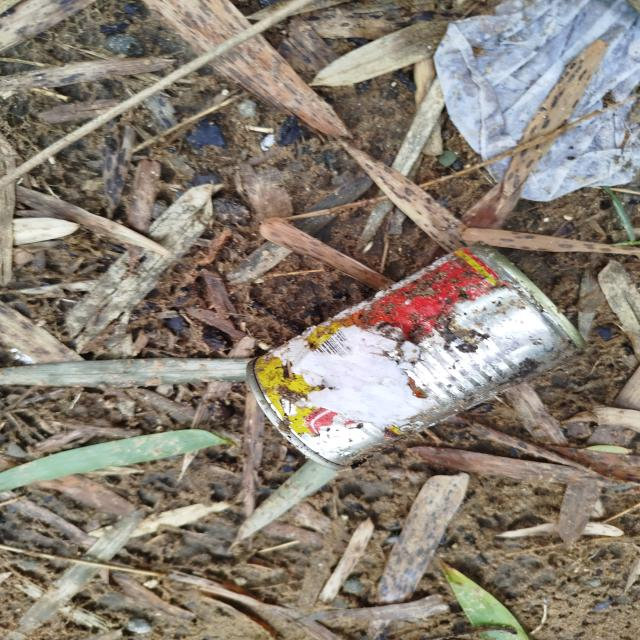metal: (226, 228, 612, 476)
